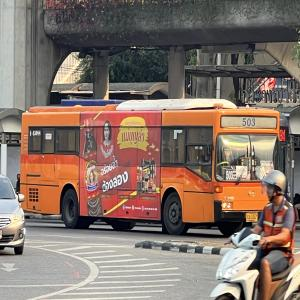BMTA-bus: (19, 99, 284, 237)
Bus Line Number: (241, 116, 256, 128)
Destination Sign: (260, 159, 274, 173)
